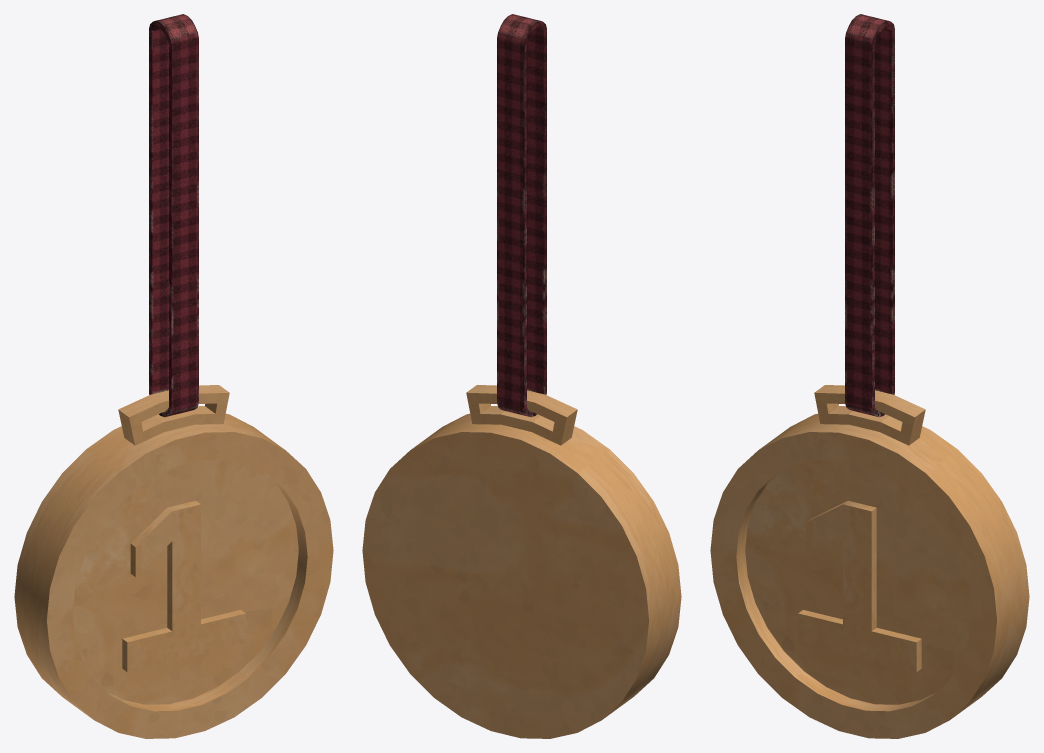
The model's file is Medal.fbx.
3 renders of one model, left to right at view 1: azimuth 30°, elevation 25°; view 2: azimuth 150°, elevation 25°; view 3: azimuth 330°, elevation 25°, orthographic.
Visible parts, largest first — view 1: pCylinder1, pCube3, pPlane1; view 2: pCylinder1, pCube3; view 3: pCylinder1, pCube3, pPlane1.
Part boxes in pixels (bbox=[...]): pCylinder1: bbox=[14, 385, 333, 738]; pCube3: bbox=[149, 14, 198, 417]; pPlane1: bbox=[122, 500, 245, 672]; pCylinder1: bbox=[362, 385, 681, 738]; pCube3: bbox=[497, 14, 546, 417]; pCylinder1: bbox=[710, 385, 1029, 738]; pCube3: bbox=[845, 14, 894, 417]; pPlane1: bbox=[798, 500, 921, 672].
Bounding box in the file's own units: 2 × 4.69 × 0.391.
Materials: 3 (3 with a texture image).
